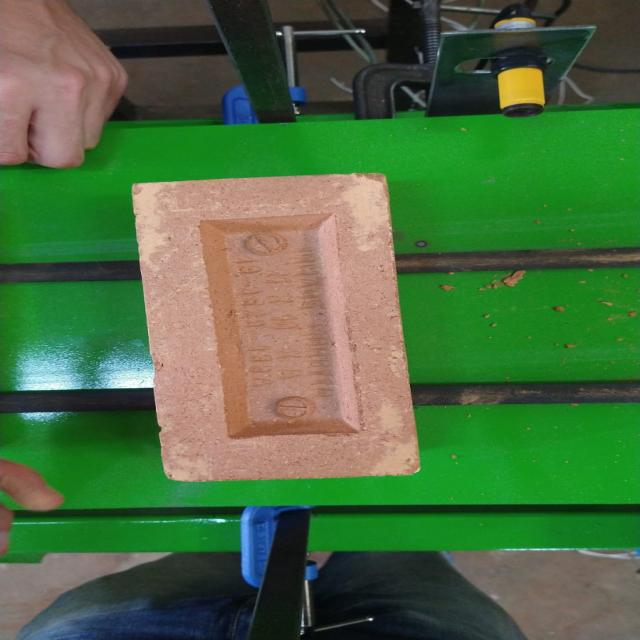bricks: (134, 172, 427, 479)
